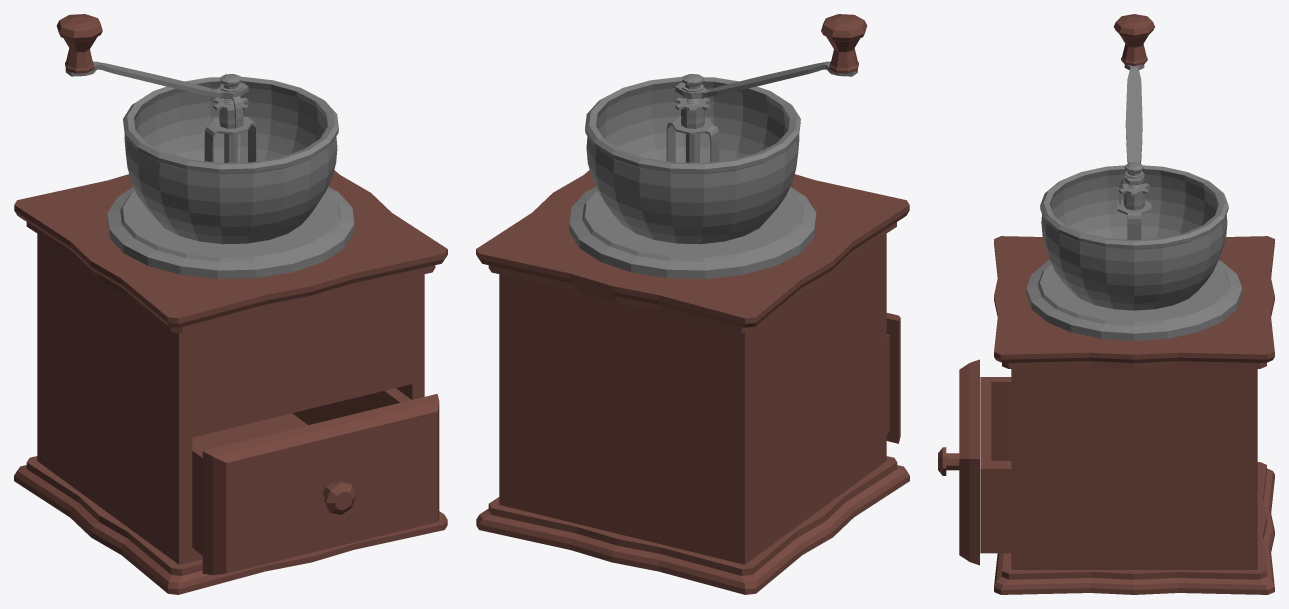
File: coffee grinder.fbx
3 renders of one model, left to right at view 1: azimuth 30°, elevation 25°; view 2: azimuth 150°, elevation 25°; view 3: azimuth 270°, elevation 25°, orthographic. The views are drawn at different scales.
Parts seen in each view (by area): view 1: Cube, Cube.005, Sphere, Cube.002, Cylinder.001, Cube.001, Cube.004, Cylinder.009, Cylinder.008, Cylinder.002, Cylinder; view 2: Cube, Sphere, Cube.002, Cube.001, Cylinder.001, Cylinder.009, Cube.005, Cylinder.008, Cylinder.002; view 3: Cube, Sphere, Cube.002, Cube.001, Cylinder.001, Cube.004, Cube.005, Cylinder.008, Cylinder.009, Cylinder.002, Cylinder.
Boxes of the visible parts, box(x1,y1,x2,y2) form: Cube: box(37, 233, 424, 564); Cube.005: box(202, 394, 439, 574); Sphere: box(123, 76, 338, 244); Cube.002: box(14, 170, 447, 333); Cylinder.001: box(107, 187, 354, 278); Cube.001: box(14, 456, 447, 594); Cube.004: box(192, 388, 411, 554); Cylinder.009: box(56, 14, 102, 73); Cylinder.008: box(65, 61, 248, 97); Cylinder.002: box(204, 117, 257, 162); Cylinder: box(322, 481, 356, 514); Cube: box(499, 233, 886, 564); Sphere: box(585, 76, 800, 244); Cube.002: box(476, 170, 909, 333); Cube.001: box(476, 456, 909, 594); Cylinder.001: box(569, 187, 816, 278); Cylinder.009: box(821, 14, 867, 73); Cube.005: box(886, 313, 900, 443); Cylinder.008: box(675, 61, 857, 97); Cylinder.002: box(666, 117, 719, 162); Cube: box(1011, 367, 1257, 569); Sphere: box(1040, 165, 1228, 310); Cube.002: box(994, 236, 1274, 368); Cube.001: box(994, 462, 1274, 594); Cylinder.001: box(1026, 260, 1242, 340); Cube.004: box(980, 377, 1011, 553); Cube.005: box(959, 359, 979, 565); Cylinder.008: box(1124, 64, 1144, 185); Cylinder.009: box(1113, 14, 1154, 65); Cylinder.002: box(1117, 200, 1151, 239); Cylinder: box(938, 447, 959, 475).
Bounding box in the file's own units: 134 × 214 × 145.
